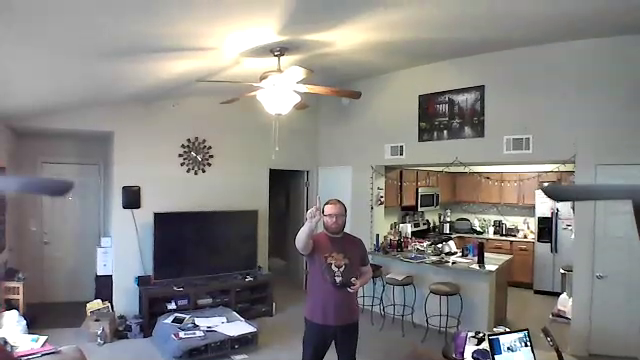up: (304, 189, 322, 223)
